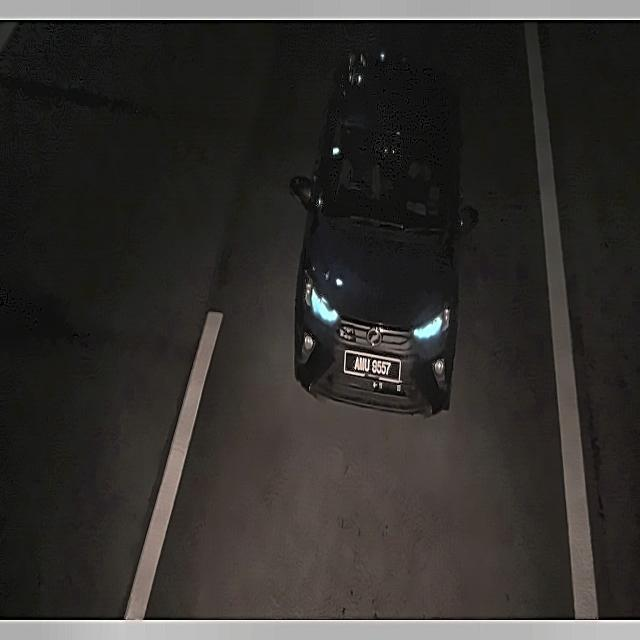car: (342, 348, 406, 387)
